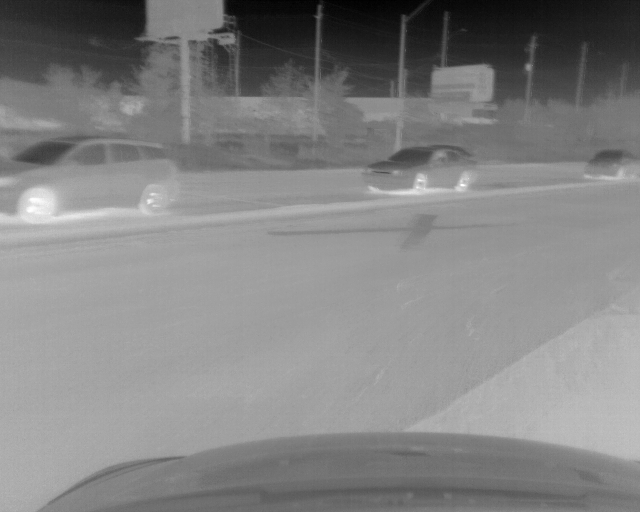car: (1, 137, 174, 218), (360, 145, 478, 192), (584, 147, 633, 178)
